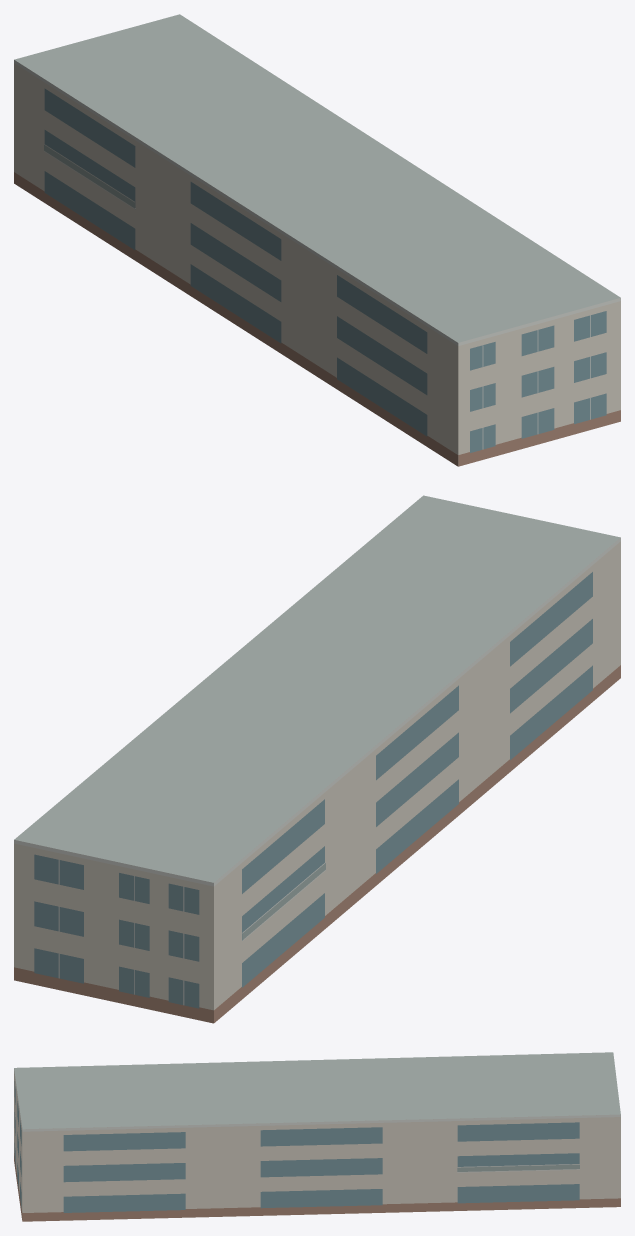
File: survey-upis-32961382.glb
3 views of the same model, one above another, from view 1: azimuth 30°, elevation 25°; view 2: azimuth 150°, elevation 25°; view 3: azimuth 270°, elevation 25° (orthographic). The views are drawn at different scales.
Visible parts, largest first — view 1: survey-upis-32961382.tmp; view 2: survey-upis-32961382.tmp; view 3: survey-upis-32961382.tmp.
Part boxes in pixels (box(x1,y1,x2,y2)): survey-upis-32961382.tmp: box(14, 14, 620, 466); survey-upis-32961382.tmp: box(14, 495, 620, 1023); survey-upis-32961382.tmp: box(14, 1052, 620, 1221).
Size of the model in its own units: 16.34 by 9.15 by 54.43.
